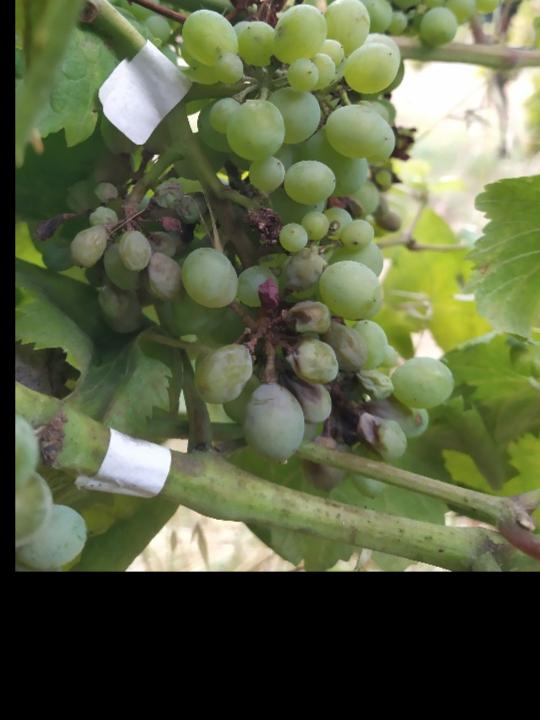grape: (67, 0, 459, 468)
